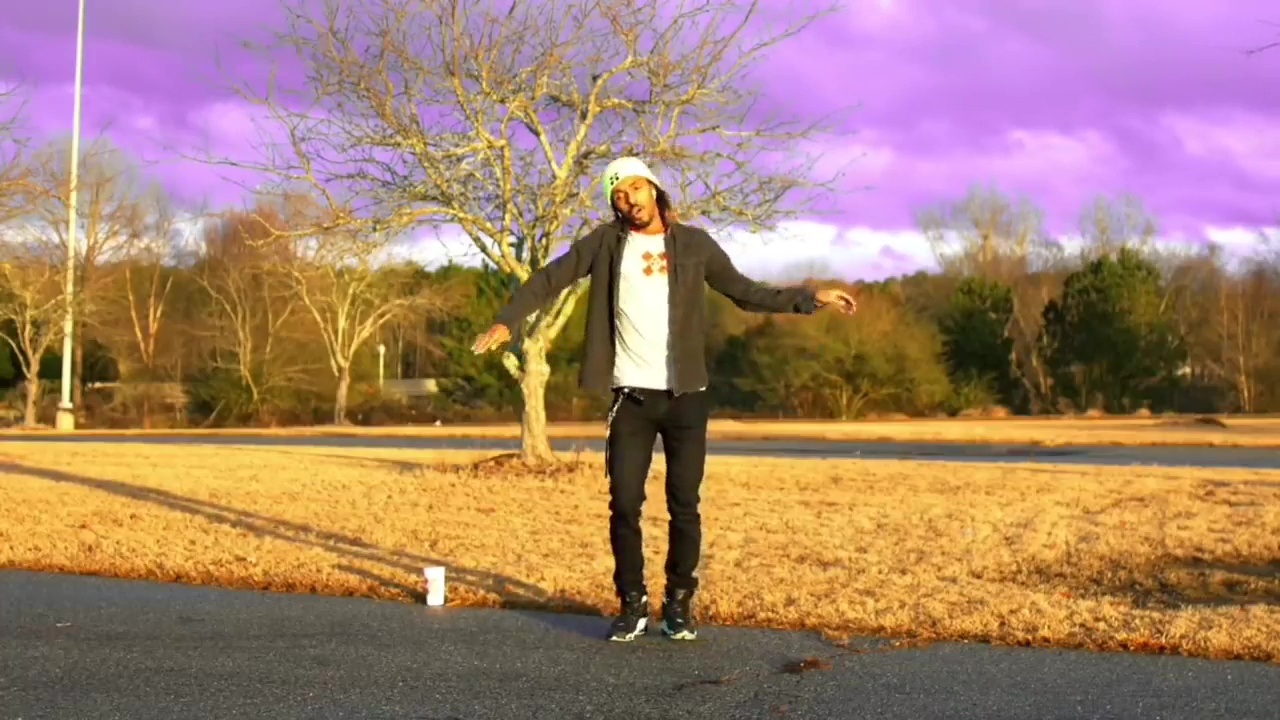Head: (600, 155, 675, 228)
Hip: (594, 366, 720, 432)
LeftAnkle: (661, 577, 715, 649)
LeftElbow: (721, 262, 767, 316)
LeftKnee: (655, 478, 707, 536)
LeftShoulder: (671, 218, 725, 267)
LeftWrist: (800, 280, 876, 329)
RightAnkle: (606, 577, 656, 644)
RightElbow: (535, 250, 580, 309)
RightKnee: (599, 483, 656, 532)
RightShoulder: (581, 221, 625, 263)
RightWrist: (463, 308, 524, 357)
Torso: (597, 235, 706, 386)
